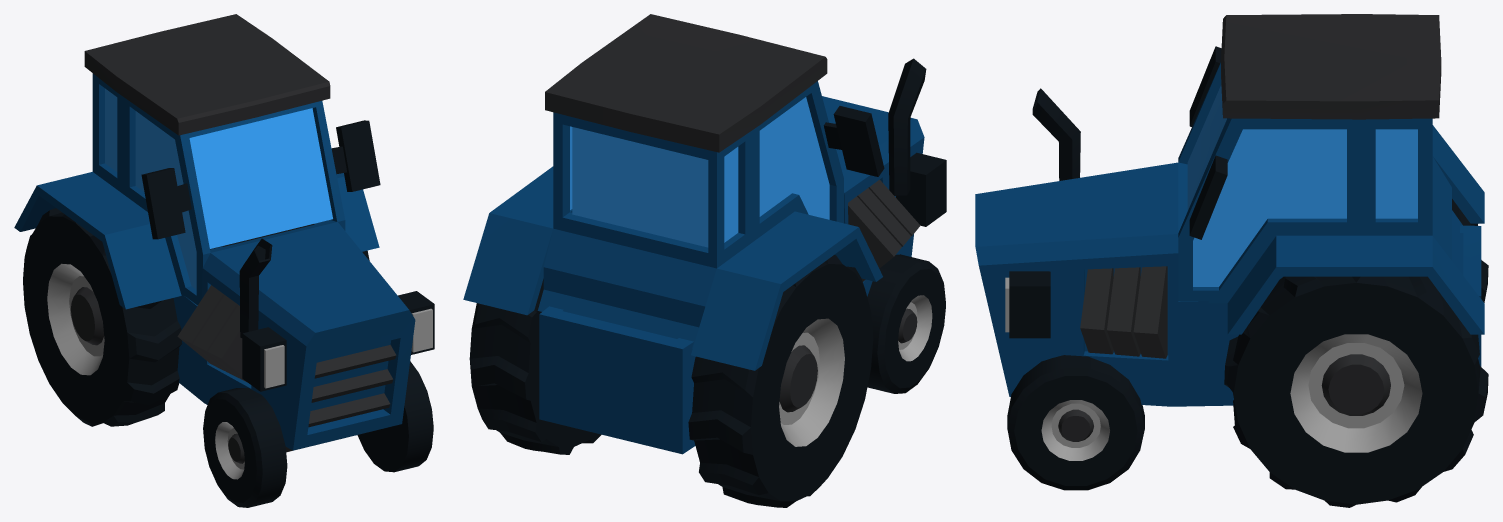
File: Tractor_2.fbx
3 views of the same model, side by side, from view 1: azimuth 30°, elevation 25°; view 2: azimuth 150°, elevation 25°; view 3: azimuth 270°, elevation 25° (orthographic). The views are drawn at different scales.
Visible parts, largest first — view 1: Tractor_2; view 2: Tractor_2; view 3: Tractor_2.
Part boxes in pixels (x1,y1,x2,y2): Tractor_2: (14, 14, 434, 507); Tractor_2: (463, 14, 946, 507); Tractor_2: (975, 14, 1488, 507).
Bounding box in the file's own units: 66.66 × 84.21 × 102.
